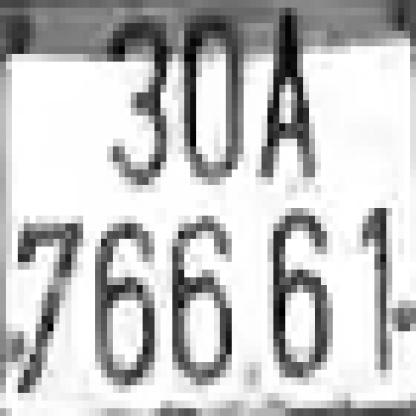0: (178, 16, 238, 178)
1: (345, 200, 392, 370)
3: (107, 23, 166, 185)
6: (267, 208, 327, 377), (95, 216, 155, 378), (172, 208, 226, 377)
7: (18, 216, 83, 385)
A: (250, 8, 321, 185)
